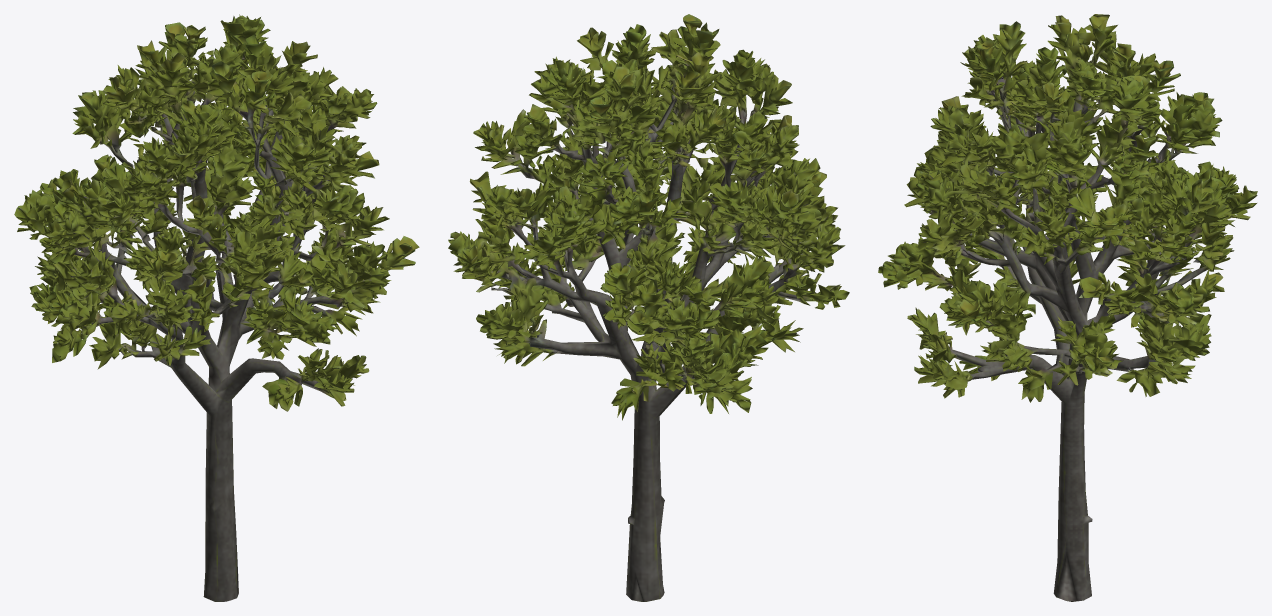
File: tree_12_simplified.glb
3 views of the same model, side by side, from view 1: azimuth 30°, elevation 25°; view 2: azimuth 150°, elevation 25°; view 3: azimuth 270°, elevation 25° (orthographic).
Visible parts, largest first — view 1: world; view 2: world; view 3: world.
Part boxes in pixels (box(x1,y1,x2,y2)): world: box(14, 14, 419, 601); world: box(448, 14, 849, 601); world: box(878, 14, 1257, 601).
Bounding box in the file's own units: 0.659 × 1 × 0.6203.
1 material, 1 textured.
